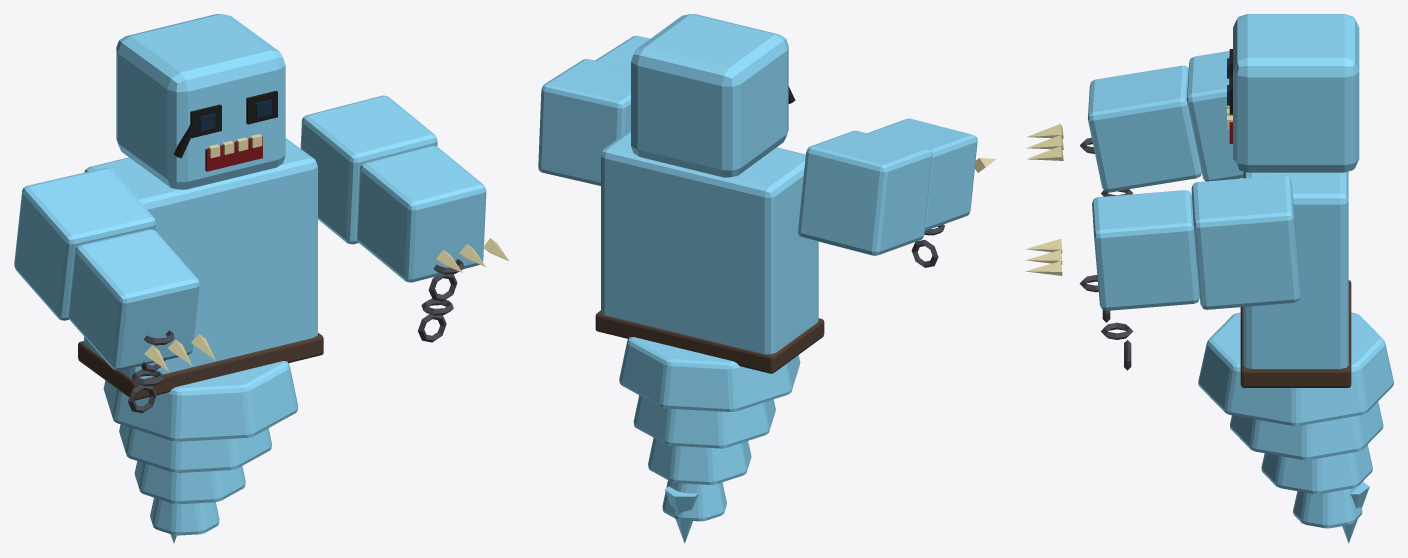
Rendered from zombi_espectral.obj.
The picture shows the model from 3 angles, left to right: view 1: azimuth 30°, elevation 25°; view 2: azimuth 150°, elevation 25°; view 3: azimuth 270°, elevation 25°; orthographic projection. The views are drawn at different scales.
Visible parts, largest first — view 1: Torso, LeftArm, RightArm, Head; view 2: Torso, Head, LeftArm, RightArm; view 3: Torso, RightArm, Head, LeftArm.
Boxes of the visible parts, x1=… form: Torso: x1=78, y1=138, x2=323, y2=543; LeftArm: x1=14, y1=168, x2=215, y2=413; RightArm: x1=300, y1=95, x2=509, y2=342; Head: x1=116, y1=14, x2=285, y2=189; Torso: x1=595, y1=129, x2=824, y2=543; Head: x1=631, y1=14, x2=795, y2=177; LeftArm: x1=798, y1=118, x2=996, y2=267; RightArm: x1=538, y1=35, x2=649, y2=185; Torso: x1=1198, y1=171, x2=1393, y2=543; RightArm: x1=1025, y1=175, x2=1300, y2=370; Head: x1=1227, y1=14, x2=1359, y2=172; LeftArm: x1=1026, y1=51, x2=1243, y2=196.
Bounding box in the file's own units: 4 × 5.32 × 3.5.
1 material, 1 textured.
